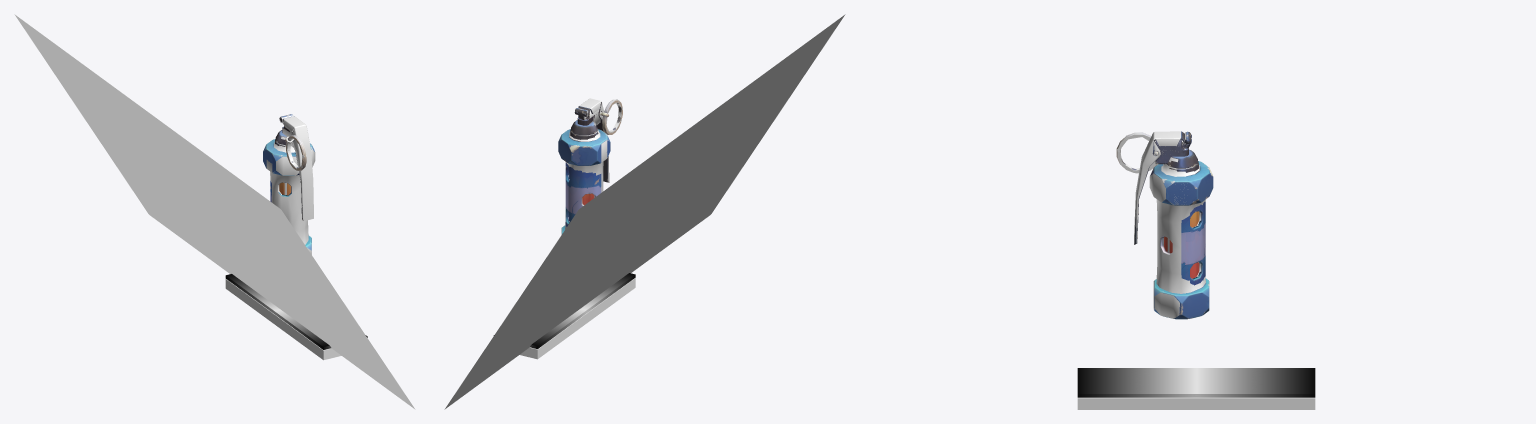
File: Flashbang.glb
3 renders of one model, left to right at view 1: azimuth 30°, elevation 25°; view 2: azimuth 150°, elevation 25°; view 3: azimuth 270°, elevation 25°, orthographic. The views are drawn at different scales.
Parts seen in each view (by area): view 1: LightQuad, BodyModel, FlashBangLOD0, Cube (1), Cube; view 2: LightQuad, FlashBangLOD0, BodyModel, Cube (1), Cube; view 3: Cube, FlashBangLOD0, BodyModel, Cube (1).
Part boxes in pixels (x1,y1,x2,y2): LightQuad: [14, 14, 415, 409]; BodyModel: [266, 115, 315, 254]; FlashBangLOD0: [263, 114, 314, 250]; Cube (1): [225, 279, 341, 360]; Cube: [225, 274, 367, 349]; LightQuad: [444, 14, 845, 409]; FlashBangLOD0: [558, 99, 622, 234]; BodyModel: [565, 98, 622, 228]; Cube (1): [520, 278, 635, 359]; Cube: [493, 273, 635, 348]; Cube: [1077, 368, 1315, 397]; FlashBangLOD0: [1116, 131, 1213, 319]; BodyModel: [1117, 131, 1205, 318]; Cube (1): [1077, 397, 1315, 409].
Size of what is drawn, in the model's own units: 0.3396 by 0.4633 by 0.9217.
5 materials, 2 textured.
